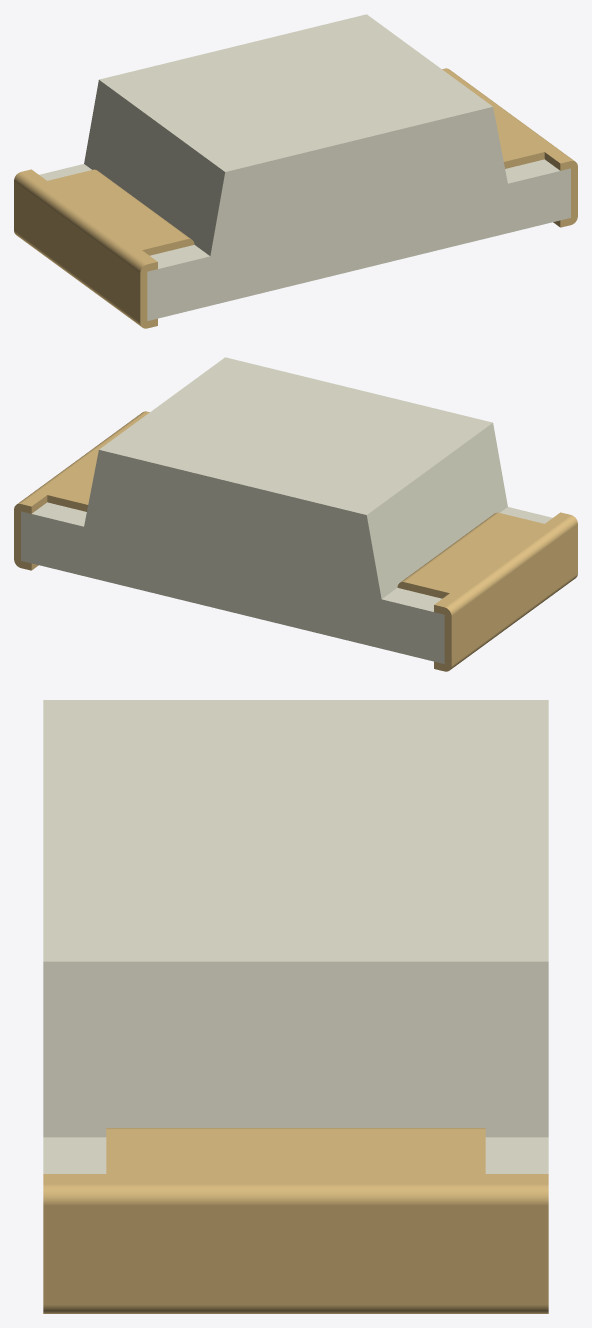
Rendered from LED_2010.glb.
The picture shows the model from 3 angles, top to bottom: view 1: azimuth 30°, elevation 25°; view 2: azimuth 150°, elevation 25°; view 3: azimuth 270°, elevation 25°; orthographic projection. The views are drawn at different scales.
Visible parts, largest first — view 1: =>[0:1:1:3]; view 2: =>[0:1:1:3]; view 3: =>[0:1:1:3].
Boxes of the visible parts, left/top/right/bottom form: =>[0:1:1:3]: left=14, top=14, right=577, bottom=328; =>[0:1:1:3]: left=14, top=357, right=577, bottom=671; =>[0:1:1:3]: left=43, top=700, right=548, bottom=1313.
Size of the model in its own units: 0.005 by 0.0015 by 0.0025.
